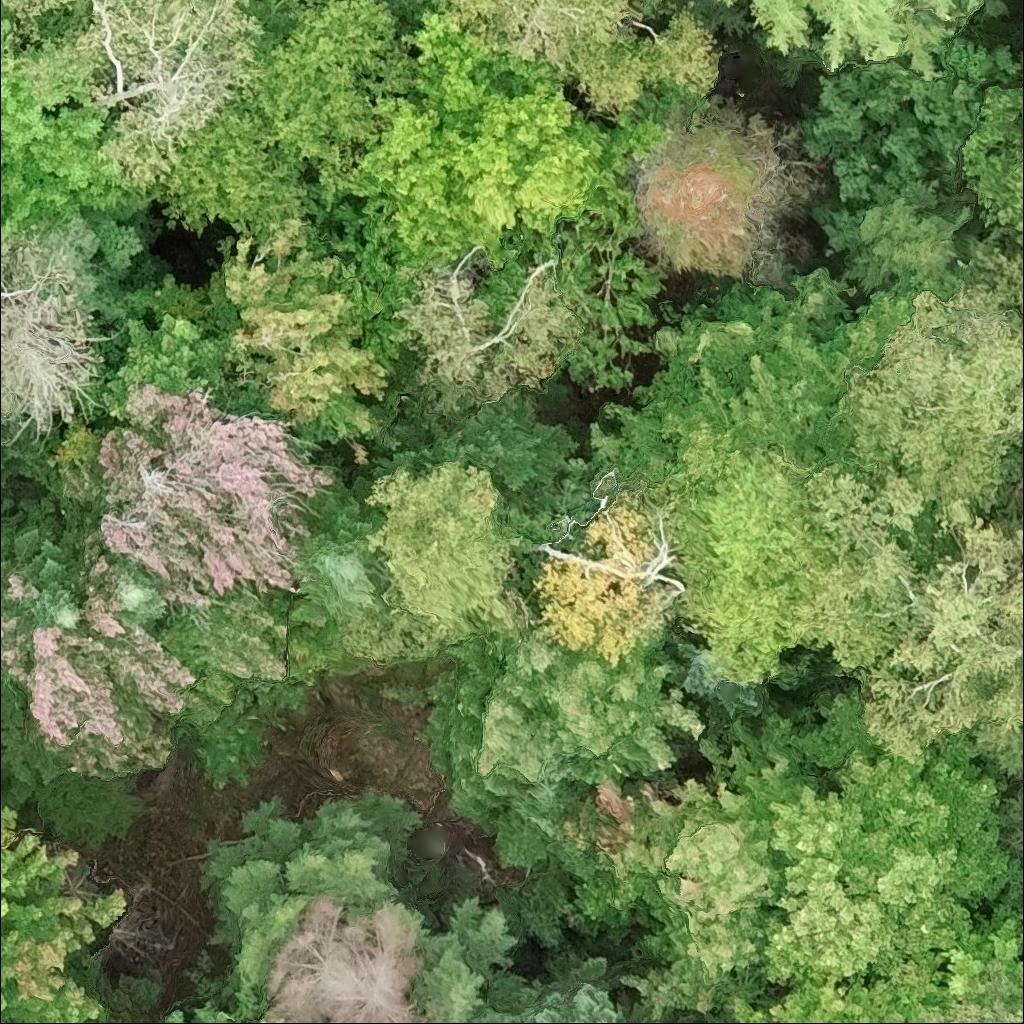crown: (303, 7, 624, 254), (197, 788, 522, 1023), (741, 729, 1023, 988), (588, 265, 910, 488), (785, 462, 1023, 763), (149, 0, 416, 259), (97, 376, 338, 611), (577, 744, 779, 1018), (0, 0, 267, 193), (830, 247, 1023, 512), (0, 531, 197, 779), (658, 414, 831, 687), (210, 211, 391, 463), (334, 460, 530, 666), (475, 620, 707, 787), (156, 579, 330, 788), (0, 17, 154, 241), (446, 0, 719, 116), (0, 831, 125, 1023), (533, 504, 678, 665), (259, 893, 433, 1023), (749, 0, 985, 80), (729, 950, 950, 1023), (101, 309, 231, 423), (469, 953, 677, 1023), (292, 477, 389, 624), (961, 63, 1023, 253), (0, 505, 88, 630), (913, 959, 1023, 1023), (167, 967, 286, 1023), (103, 550, 167, 628), (0, 664, 31, 747), (0, 800, 22, 843), (715, 0, 744, 5), (1021, 926, 1023, 947)
